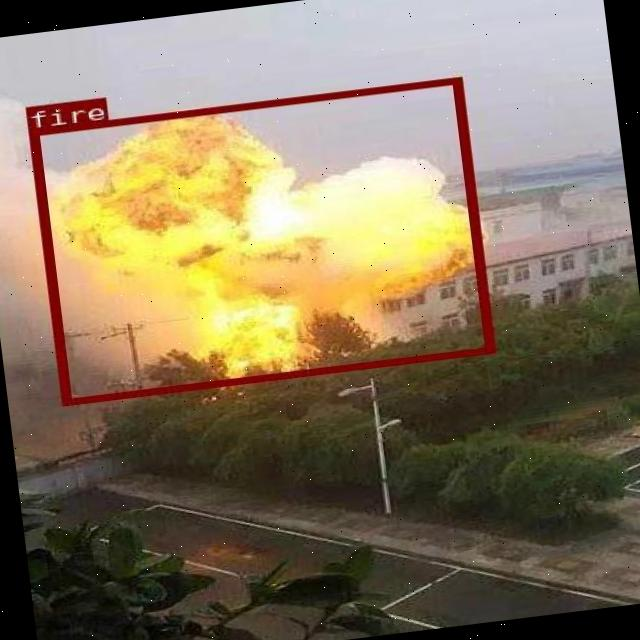fire: (26, 77, 493, 404)
